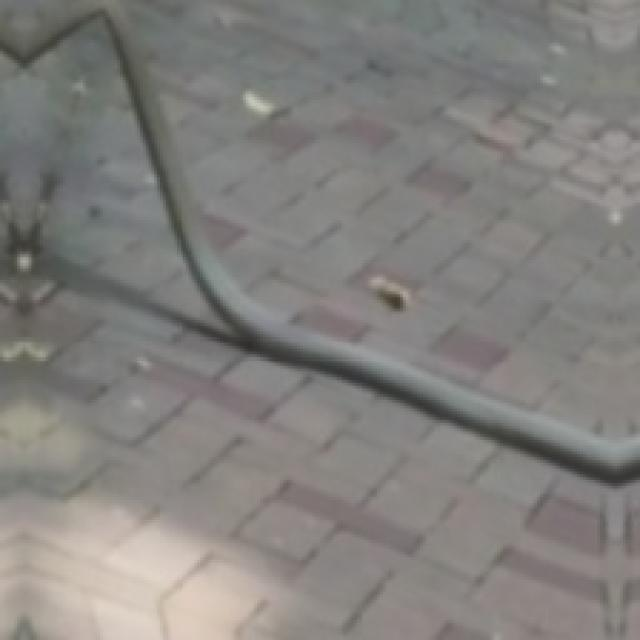king cobra: (0, 0, 637, 483), (363, 323, 563, 420)
